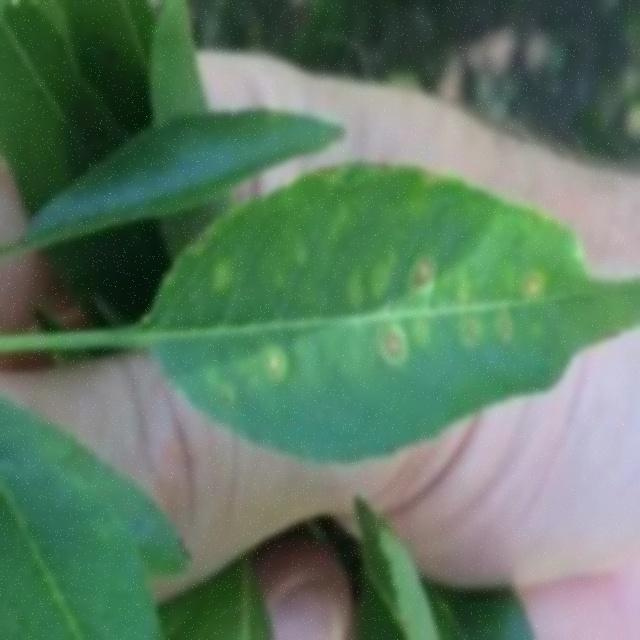leaf_spot: (110, 156, 640, 483)
